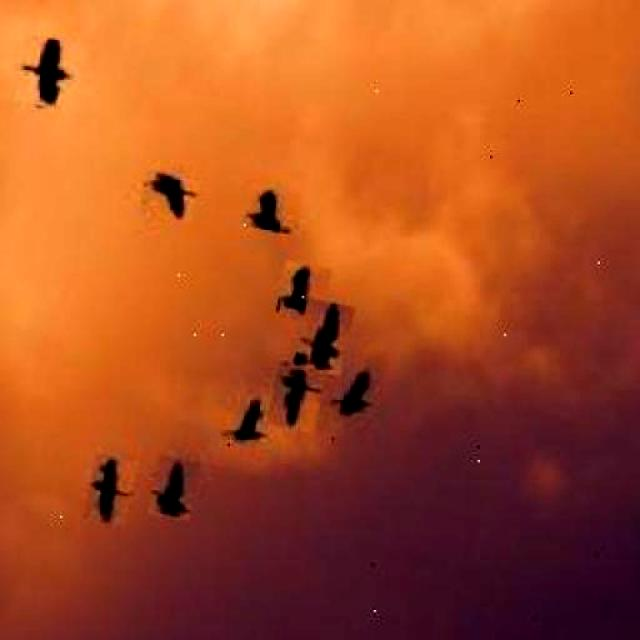airplane: (12, 34, 79, 112), (292, 296, 354, 376), (266, 361, 326, 432), (81, 452, 138, 525), (146, 454, 200, 520), (275, 260, 331, 320), (324, 361, 380, 421), (139, 169, 199, 221), (242, 182, 300, 235), (220, 392, 272, 446)
